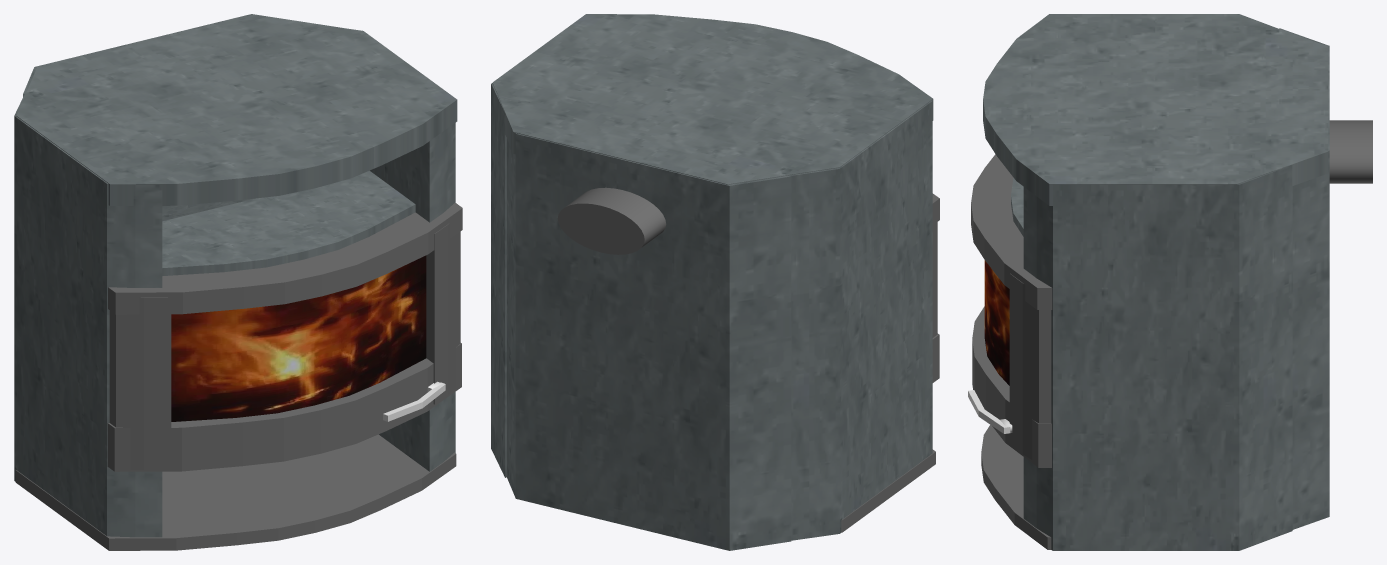
File: sh-contrib-ator-arriere.glb
The picture shows the model from 3 angles, left to right: view 1: azimuth 30°, elevation 25°; view 2: azimuth 150°, elevation 25°; view 3: azimuth 270°, elevation 25°; orthographic projection.
Parts seen in each view (by area): view 1: Extruded_Object_1_1, Extruded_Object_2_2, Extruded_Object_9_10, Extruded_Object_10_13; view 2: Extruded_Object_1_1, Extruded_Object_2_2; view 3: Extruded_Object_1_1, Extruded_Object_2_2, Extruded_Object_9_10, Extruded_Object_10_13.
Part boxes in pixels (left/top/right/bottom): Extruded_Object_1_1: left=14, top=14, right=457, bottom=537; Extruded_Object_2_2: left=15, top=202, right=462, bottom=550; Extruded_Object_9_10: left=171, top=255, right=426, bottom=421; Extruded_Object_10_13: left=383, top=381, right=445, bottom=421; Extruded_Object_1_1: left=491, top=14, right=933, bottom=550; Extruded_Object_2_2: left=557, top=187, right=939, bottom=532; Extruded_Object_1_1: left=983, top=14, right=1329, bottom=550; Extruded_Object_2_2: left=971, top=120, right=1372, bottom=549; Extruded_Object_9_10: left=984, top=260, right=1009, bottom=385; Extruded_Object_10_13: left=968, top=390, right=1012, bottom=433.
Bounding box in the file's own units: 1 × 1 × 1.
Materials: 4 (2 with a texture image).
